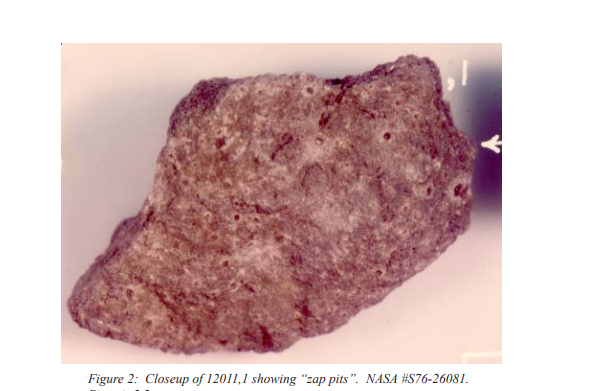Basalt: (61, 44, 500, 363)
